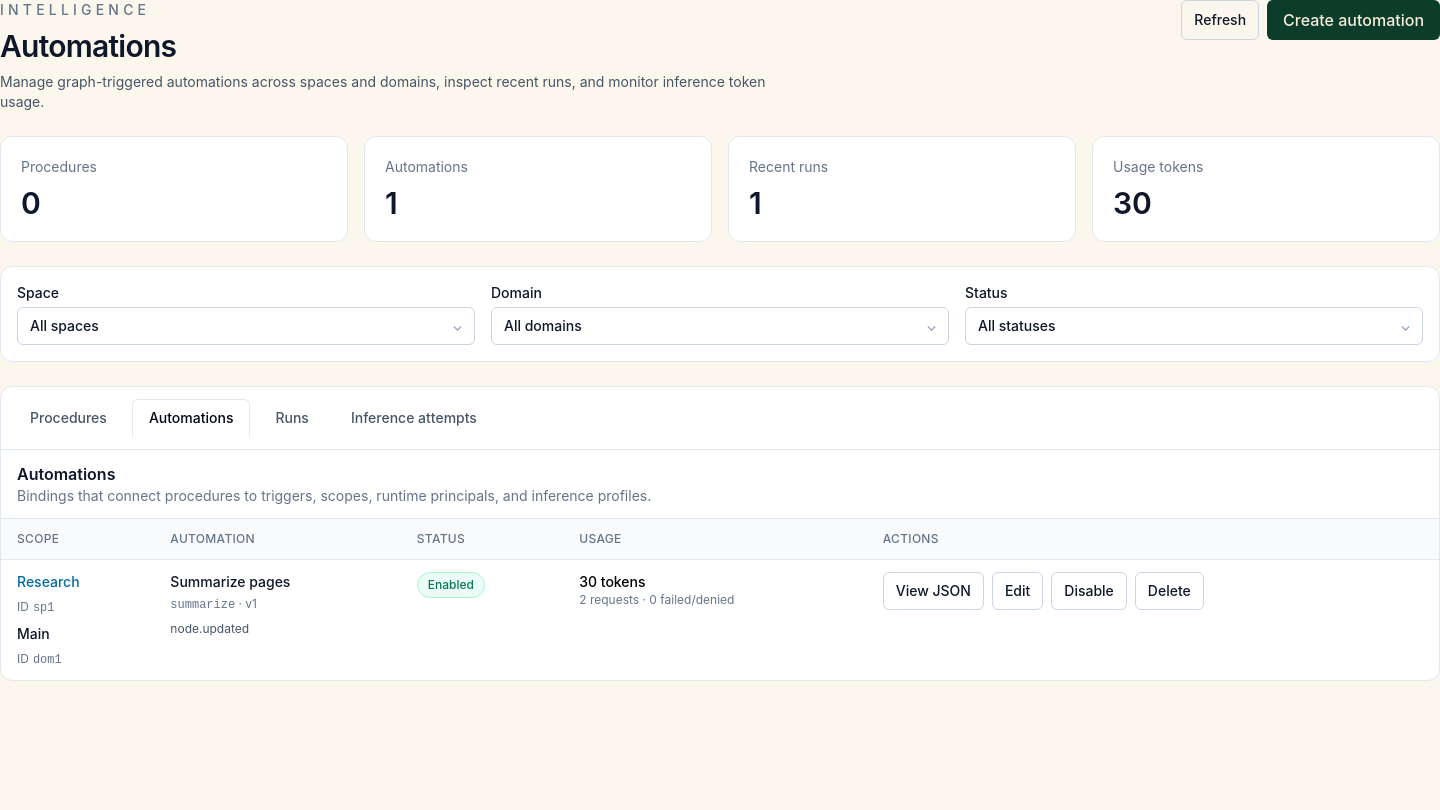
Test: renders global graph automation inventory and usage
Expected: the heading "Automations" below "Intelligence" is shown, [0,28,176,64]
Expected: the text "Summarize pages" is shown, [170,573,290,590]
What coordinates should you click on to do the following:
click the tab "Runs"
I would click on:
 (292, 418)
Its box is [258,399,326,437].
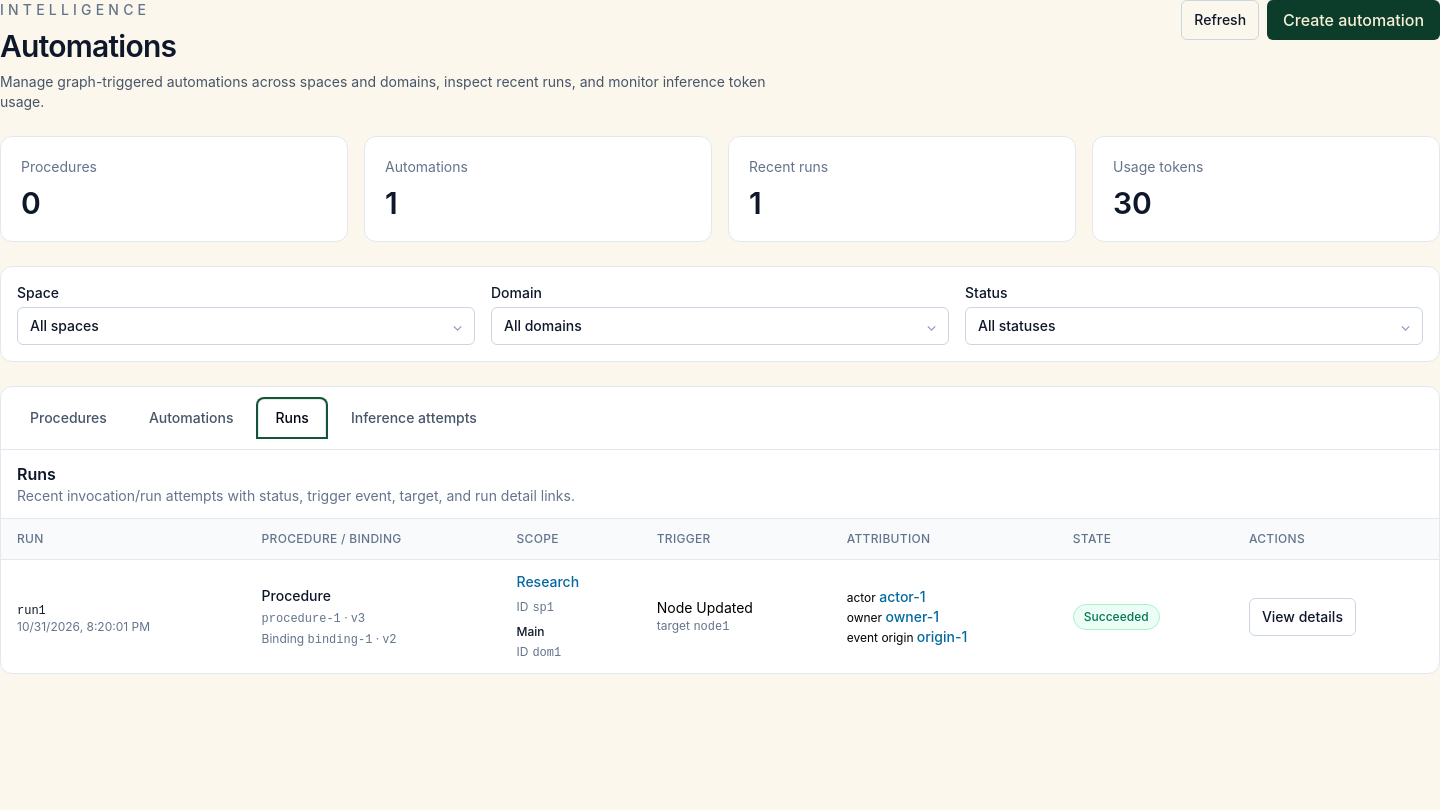
Result: the text "run1" is shown at [17,604,46,618]
Result: the text "procedure-1" is shown at [262,612,341,626]
Result: the text "binding-1" is shown at [308,632,372,646]
What coordinates should you click on to do the following:
click the button "View details"
I would click on:
 (1302, 616)
Its box is [1249,598,1356,636].
(page scrolled)
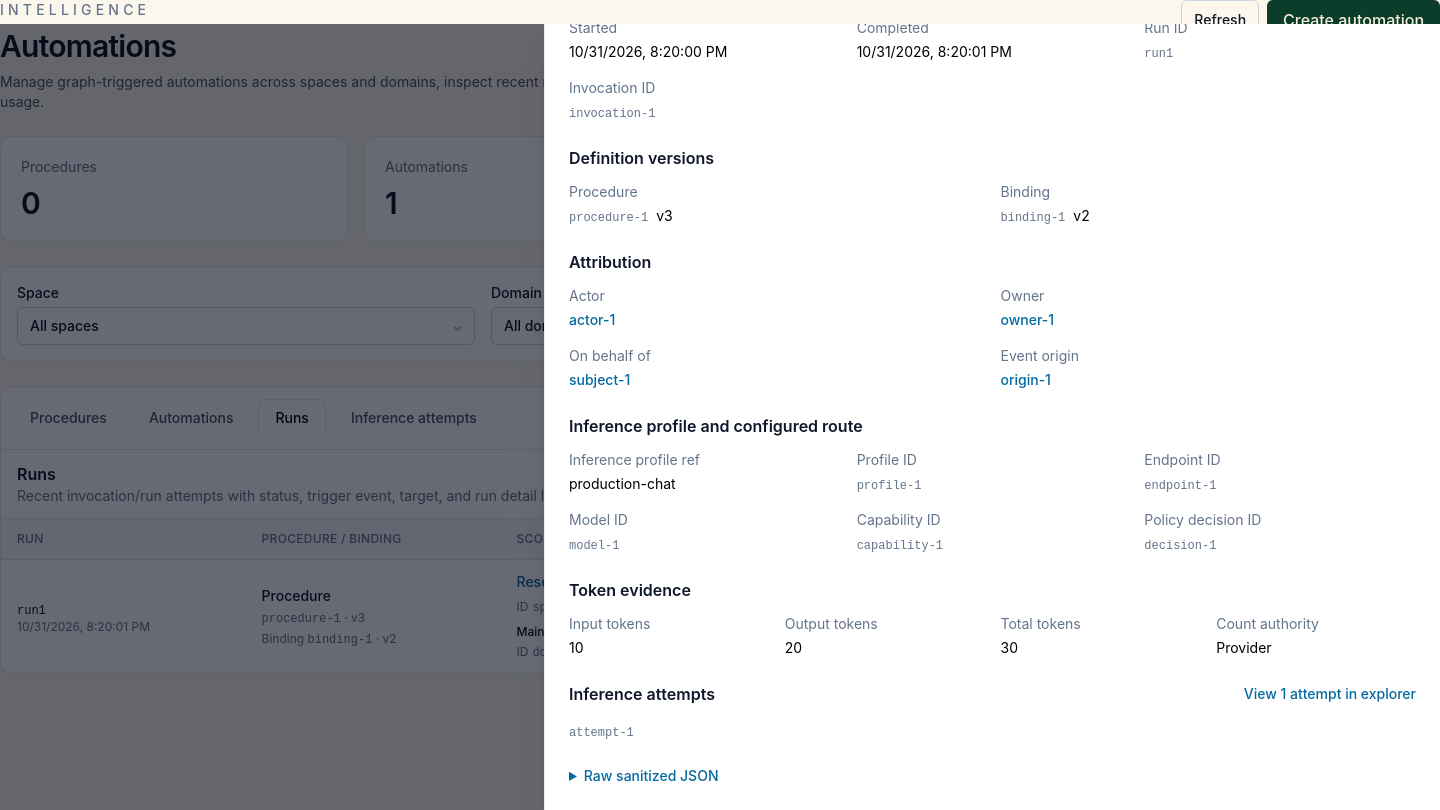
Result: the dialog named "Automation run details" is shown
Result: the text "production-chat" is shown at [569,475,676,492]
Result: the text "attempt-1" is shown at [569,726,634,740]
